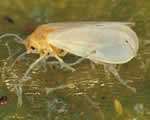whitefly: (1, 21, 143, 87)
